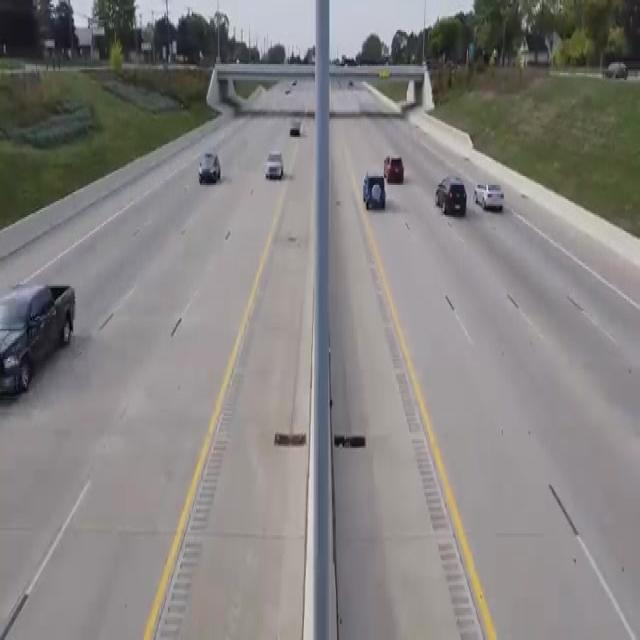car: (470, 174, 513, 222), (431, 169, 469, 221), (379, 140, 412, 189), (363, 170, 393, 216), (264, 147, 292, 189), (192, 157, 224, 186), (286, 113, 306, 135)
truck: (1, 273, 76, 416)
